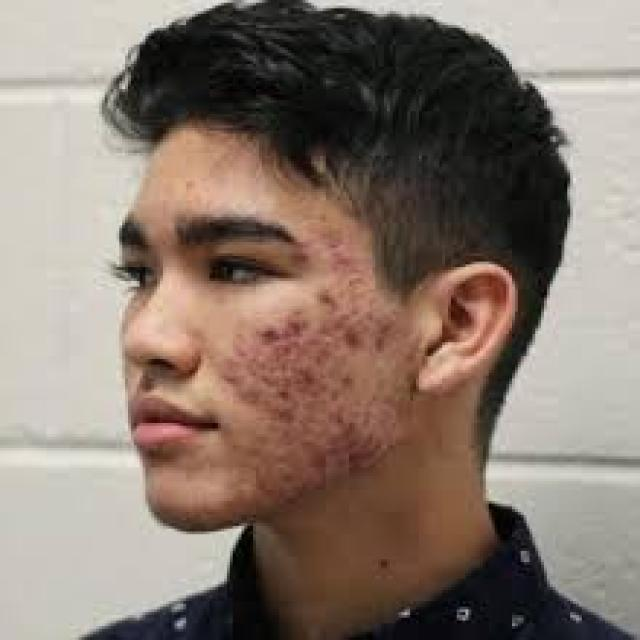Acne: (235, 294, 402, 467)
